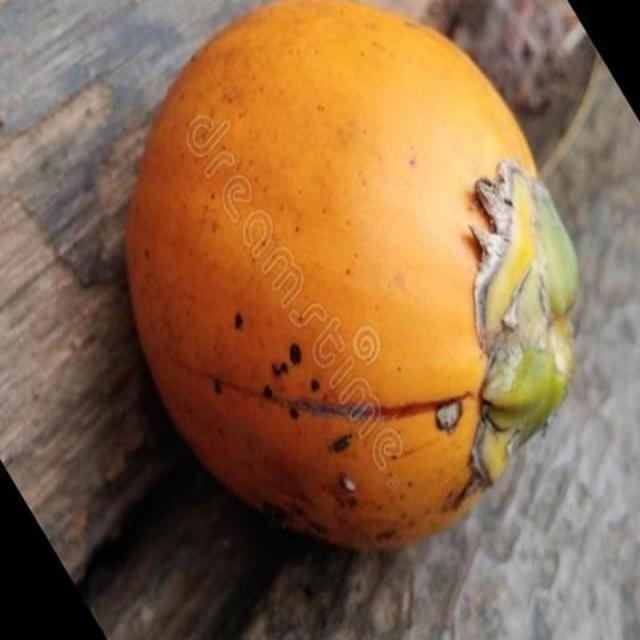good: (129, 0, 580, 552)
